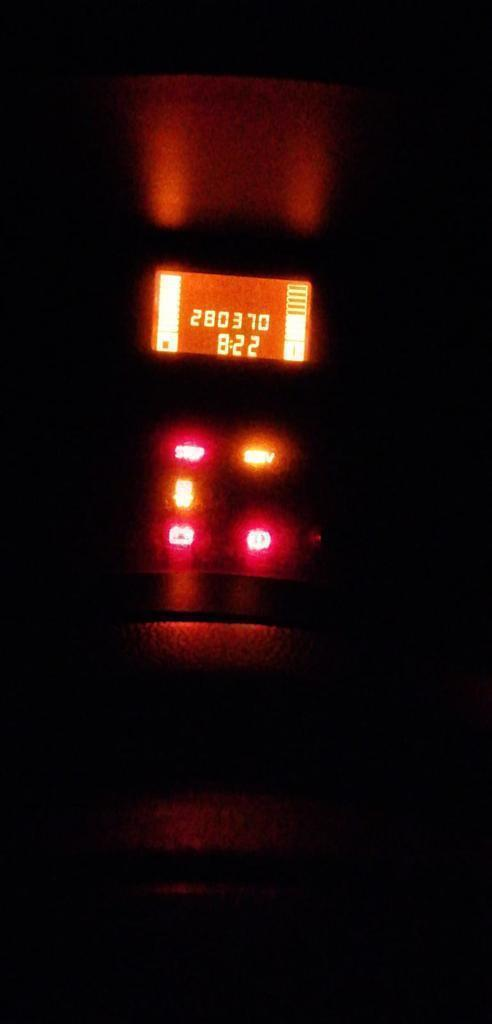0: (217, 309, 229, 328), (258, 313, 270, 330)
2: (247, 334, 260, 357), (233, 333, 245, 355), (190, 307, 202, 326)
3: (231, 311, 243, 329)
7: (246, 311, 256, 330)
8: (215, 332, 229, 354), (203, 309, 215, 327)
X: (229, 338, 233, 349)
odometer: (143, 261, 322, 366)
